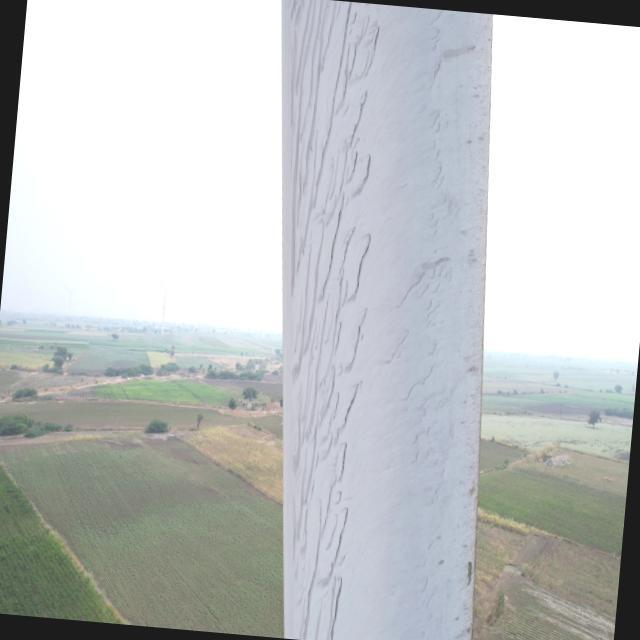Dirt: (283, 0, 487, 640)
